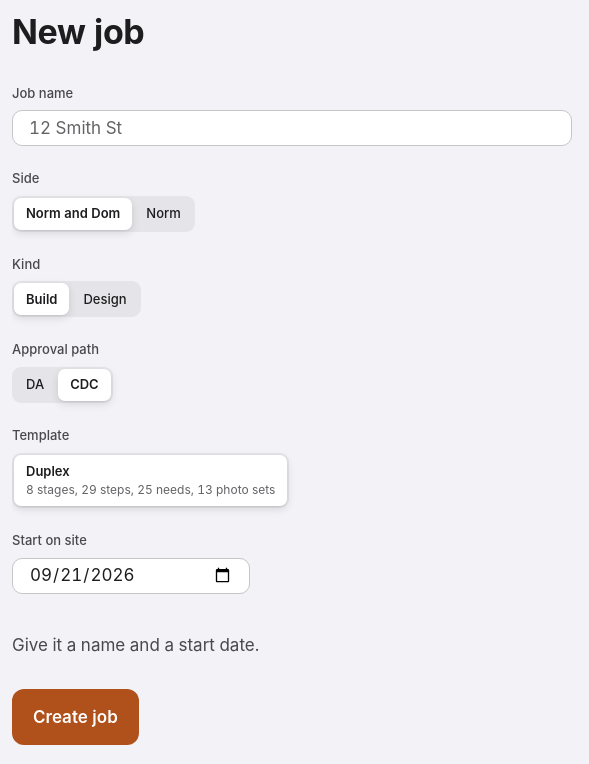
Scenario: New job › starts from a later stage: earlier stages are marked done
In the field labelled "Job name": (292, 128) [12,110,572,146], type "Live St"
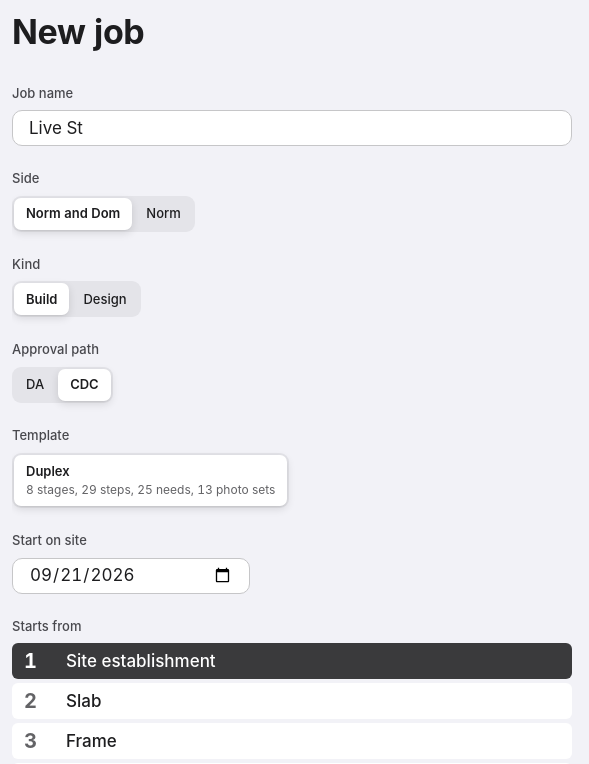
Click the button "3 Frame": (91, 741) [12,723,572,759]
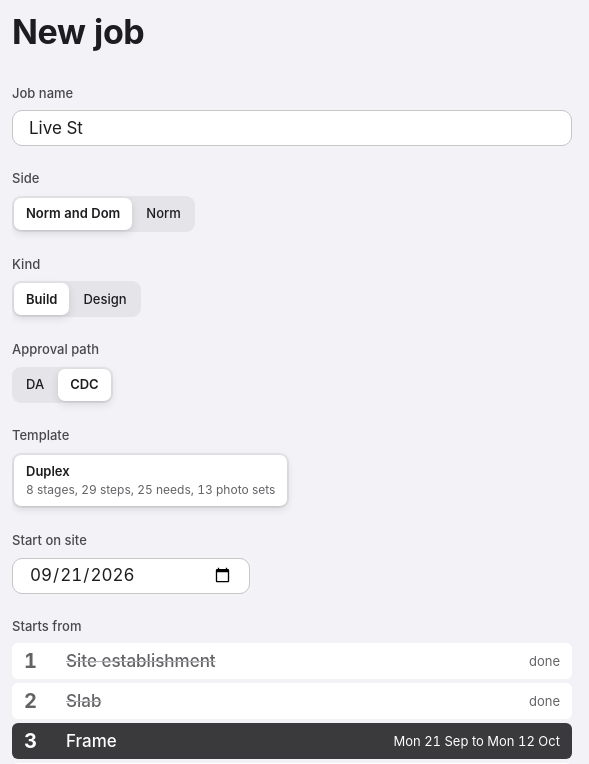
Result: the list item "1 Site establishment done" is shown at [12,643,572,679]
